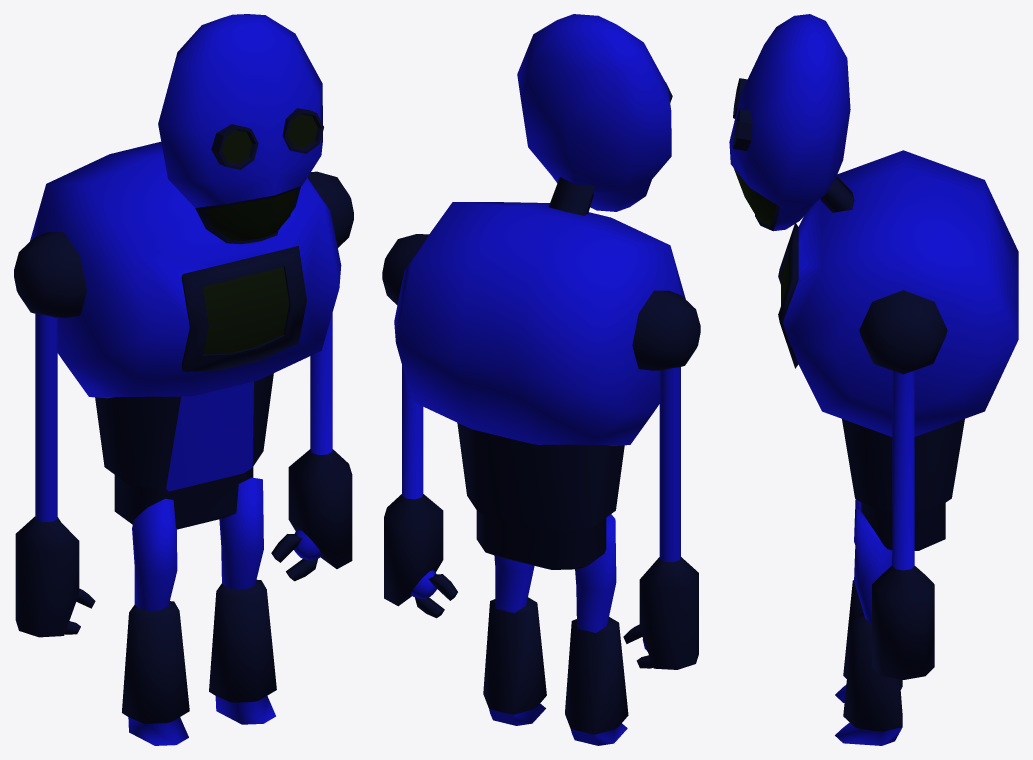
File: Robo4.FBX
3 renders of one model, left to right at view 1: azimuth 30°, elevation 25°; view 2: azimuth 150°, elevation 25°; view 3: azimuth 270°, elevation 25°, orthographic. The views are drawn at different scales.
Visible parts, largest first — view 1: R4Body1, R4Head, R4Body2, R4RArm, R4LArm, R4RLegL, R4LLegL, R4RLegU, R4LLegU; view 2: R4Body1, R4Head, R4Body2, R4RArm, R4LArm, R4RLegL, R4LLegL, R4RLegU, R4LLegU; view 3: R4Body1, R4Head, R4LArm, R4Body2, R4LLegL, R4LLegU, R4RLegL.
Part boxes in pixels (x1,y1,x2,y2): R4Body1: [14, 141, 353, 398]; R4Head: [158, 14, 323, 244]; R4Body2: [95, 373, 273, 529]; R4RArm: [15, 314, 79, 637]; R4LArm: [288, 313, 352, 568]; R4RLegL: [122, 601, 189, 745]; R4LLegL: [209, 579, 276, 724]; R4RLegU: [132, 498, 177, 610]; R4LLegU: [219, 477, 263, 589]; R4Body1: [382, 177, 700, 445]; R4Head: [517, 14, 672, 211]; R4Body2: [457, 423, 624, 569]; R4RArm: [639, 367, 698, 669]; R4LArm: [384, 365, 443, 606]; R4RLegL: [565, 617, 628, 745]; R4LLegL: [483, 597, 546, 725]; R4RLegU: [575, 514, 616, 632]; R4LLegU: [494, 555, 534, 612]; R4Body1: [778, 150, 1018, 436]; R4Head: [729, 14, 850, 231]; R4LArm: [872, 370, 934, 679]; R4Body2: [842, 419, 964, 550]; R4LLegL: [835, 613, 902, 745]; R4LLegU: [854, 509, 892, 623]; R4RLegL: [835, 580, 902, 702].
Size of the model in its own units: 18.42 by 38.88 by 14.69.
